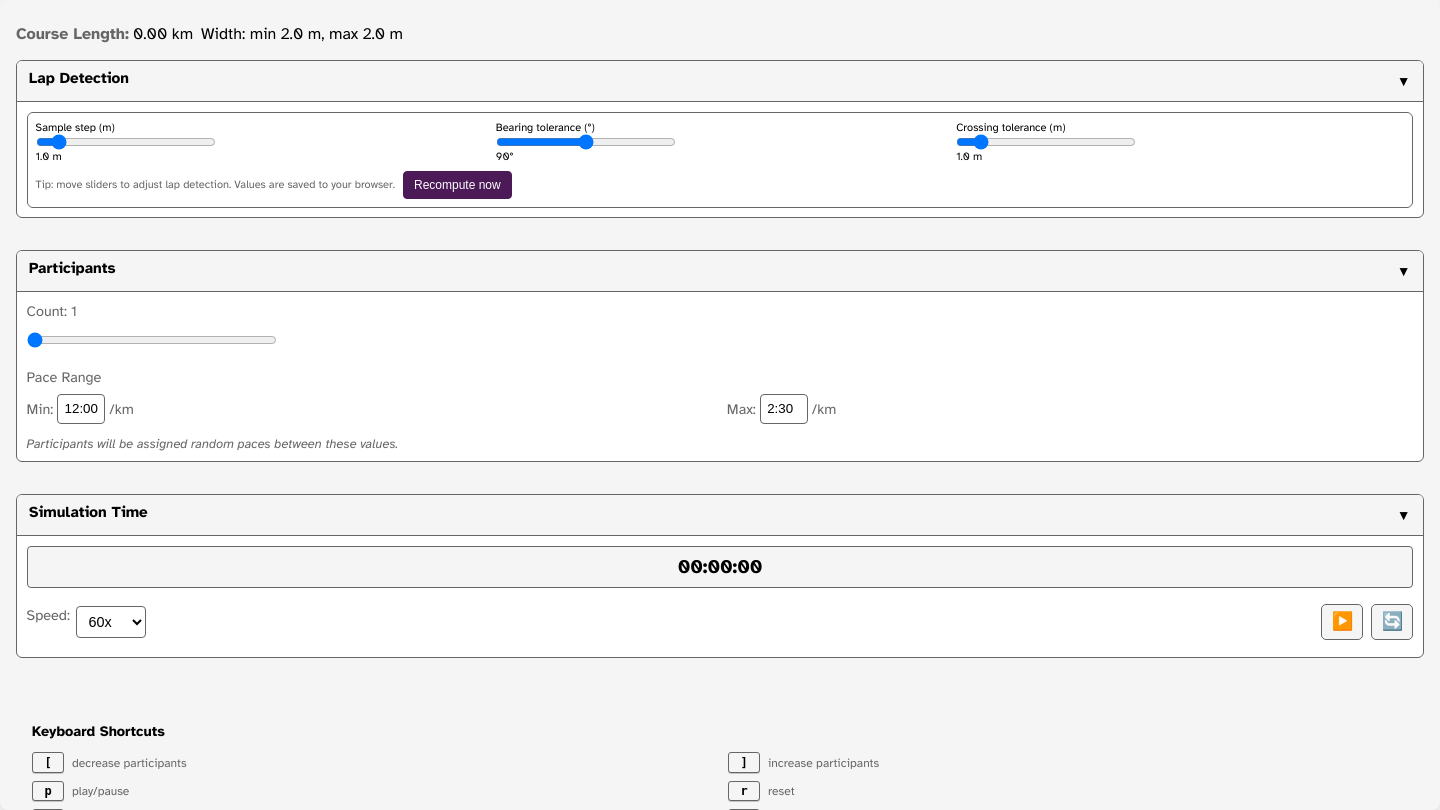
it: Simulator Component › shows error message when slowest pace is faster than fastest pace
This screenshot has width=1440, height=810.
Step 1. Replace the text in the field named "Minimum pace" with "2:00" → (81, 409), box [57,394,105,424]
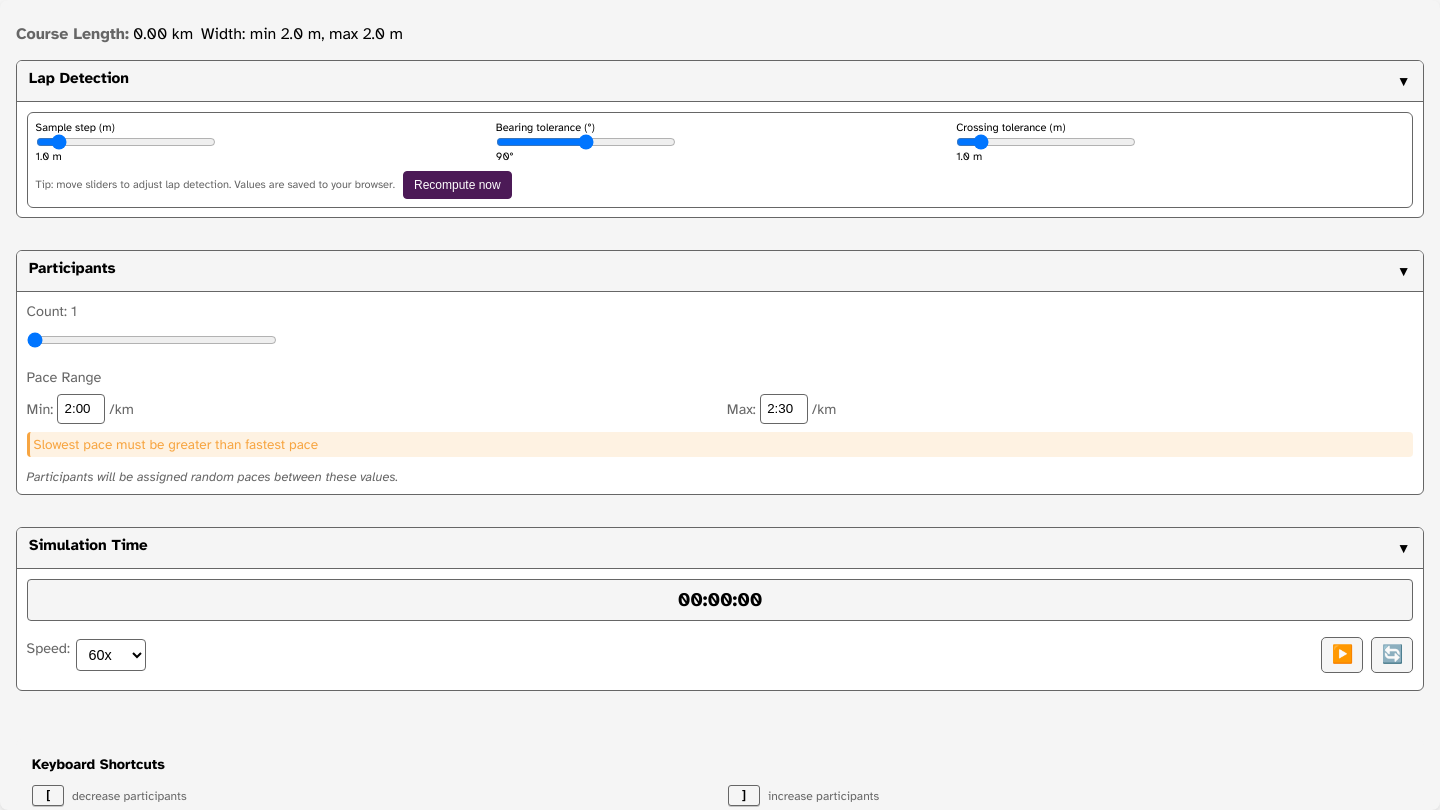
Check: the text "Slowest pace must be greater than fastest pace" is shown, box [27,432,1413,457]
